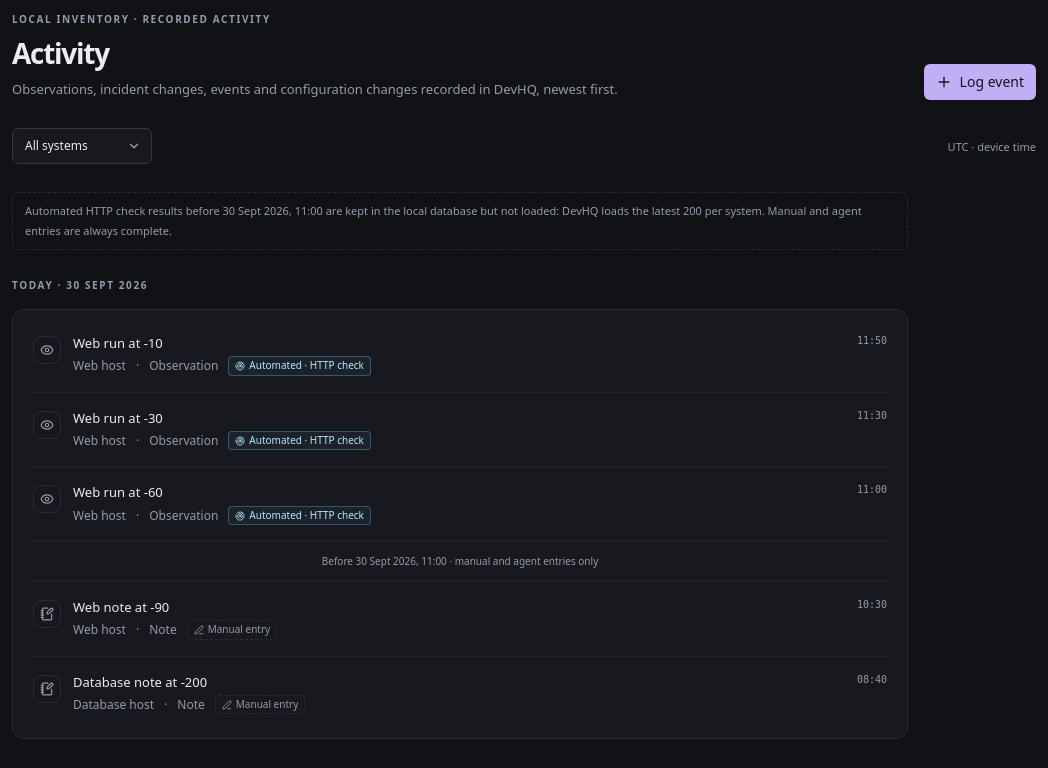
it: the automated history window › keeps merged activity honest before the window and lifts it for a complete subject
Expected: the text "Database run at -120" is not shown
Note: Database host alone is complete: all its loaded activity shows, without a note.
Select "Database host" in the dropdown named "Filter activity by system": (82, 146) [12, 128, 152, 164]
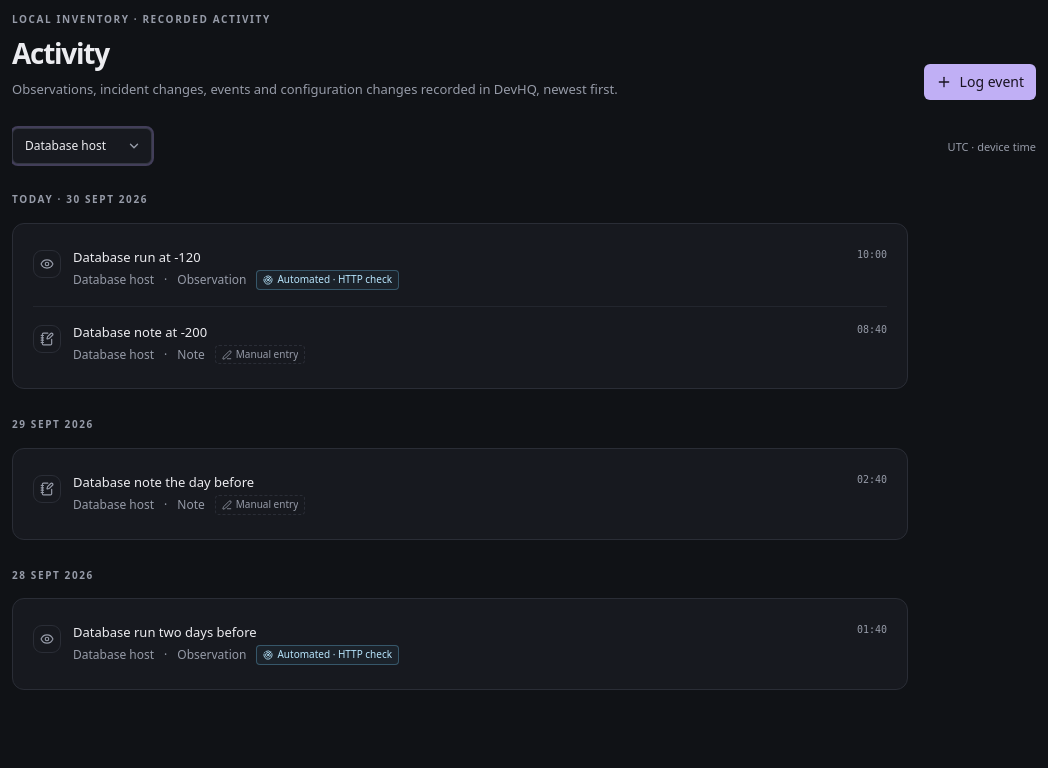
Now the text "Database run at -120" is shown, box [73, 248, 201, 266]
Now the text "Database run two days before" is shown, box [73, 623, 257, 642]
Now the list item "manual and agent entries only" is gone
